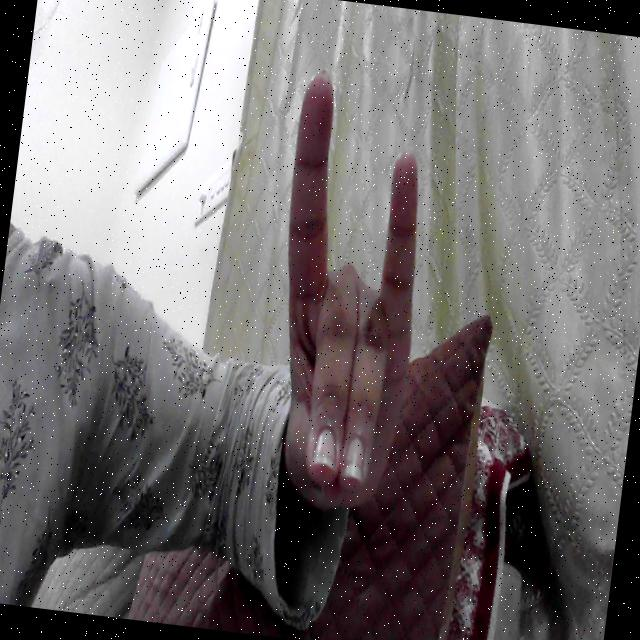Simhamukha: (205, 26, 480, 604)
